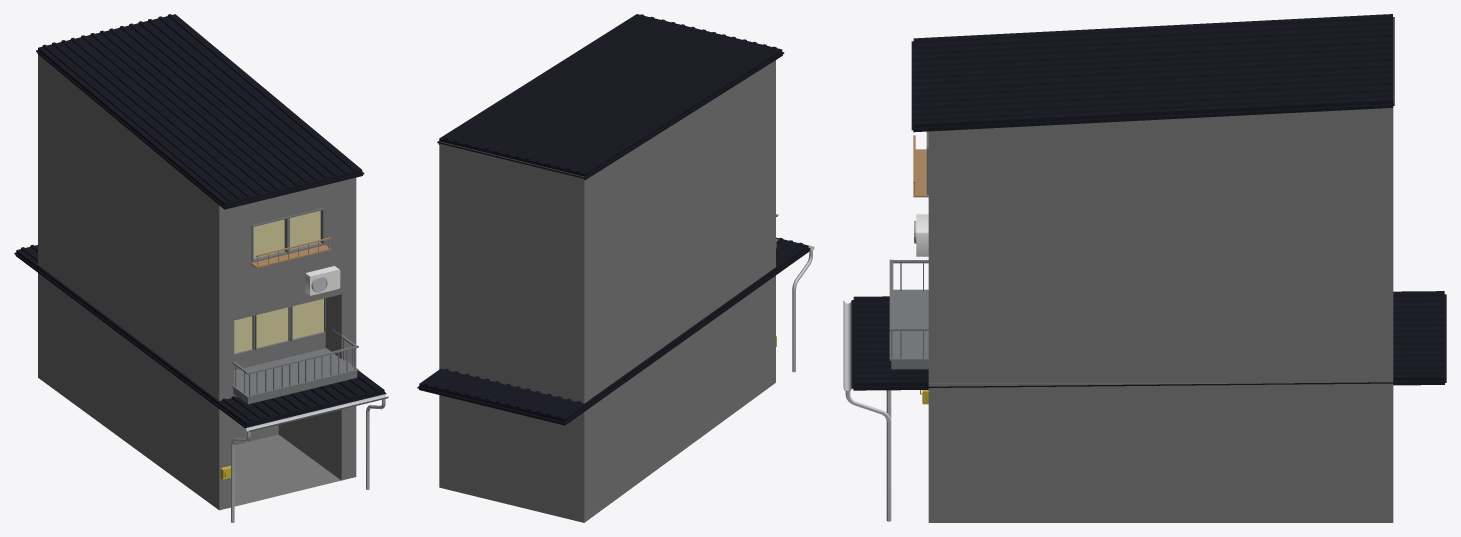
The model's file is SM_building_alley_japan_07.fbx.
3 renders of one model, left to right at view 1: azimuth 30°, elevation 25°; view 2: azimuth 150°, elevation 25°; view 3: azimuth 270°, elevation 25°, orthographic. The views are drawn at different scales.
Visible parts, largest first — view 1: Object023; view 2: Object023; view 3: Object023.
Part boxes in pixels (x1,y1,x2,y2): Object023: (14,14,388,522); Object023: (417,14,814,522); Object023: (843,14,1446,522).
Size of the model in its own units: 194 by 558 by 434.
